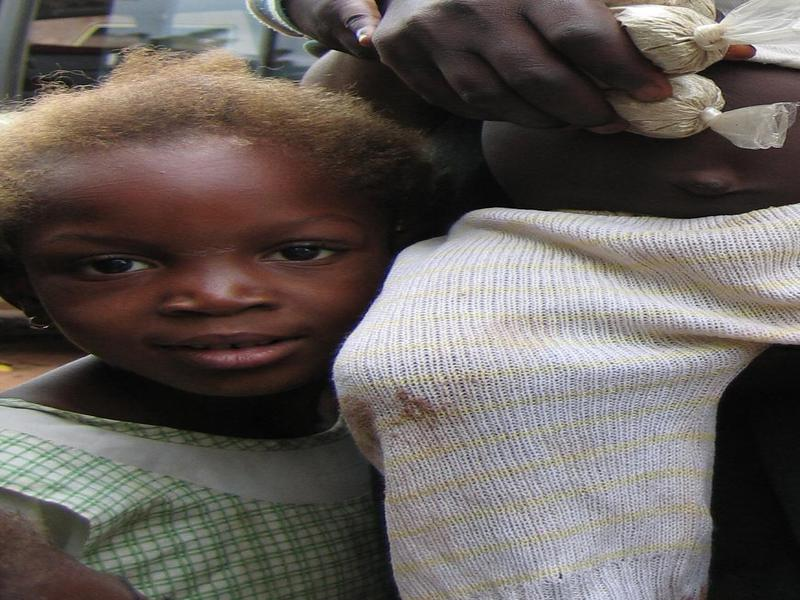person: (1, 44, 434, 593)
